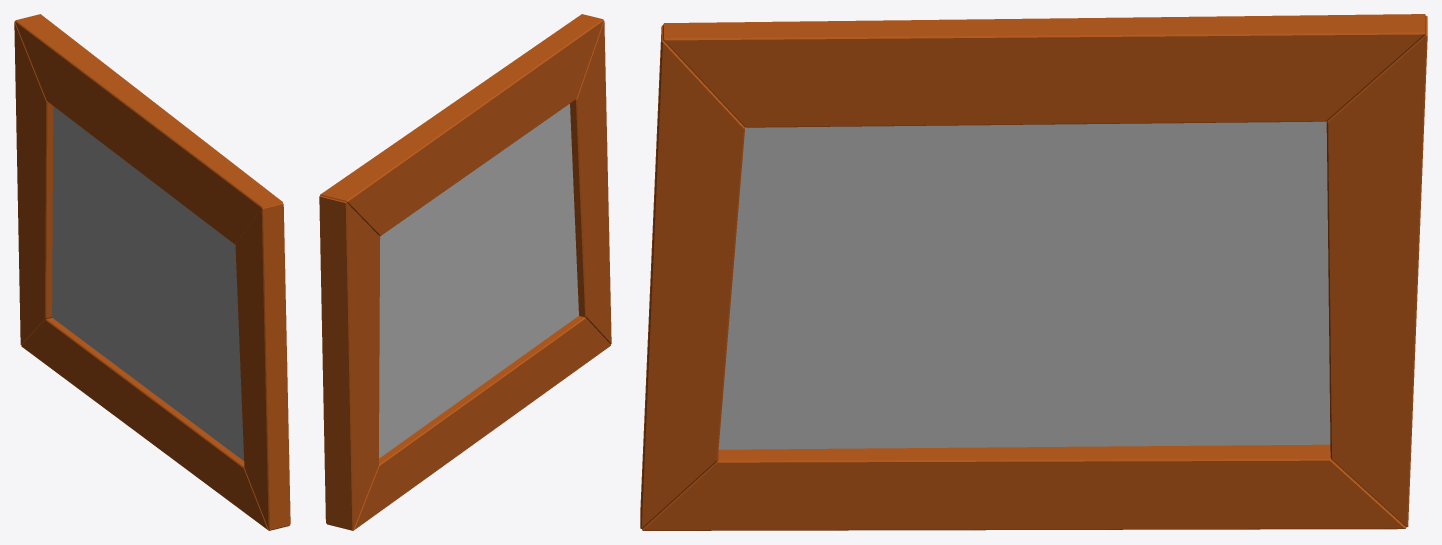
File: Picture_03.glb
The picture shows the model from 3 angles, left to right: view 1: azimuth 30°, elevation 25°; view 2: azimuth 150°, elevation 25°; view 3: azimuth 270°, elevation 25°; orthographic projection. The views are drawn at different scales.
Visible parts, largest first — view 1: Picture3; view 2: Picture3; view 3: Picture3.
Boxes of the visible parts, x1,y1,x2,y2 form: Picture3: (14,14,290,530); Picture3: (319,14,611,530); Picture3: (640,14,1427,530).
Bounding box in the file's own units: 0.0701 × 0.8169 × 1.16.
